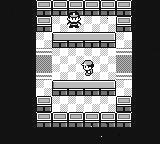main: (81, 61, 94, 75)
no-caminable: (1, 0, 160, 143), (39, 0, 132, 32), (36, 96, 131, 127), (53, 33, 115, 47), (53, 81, 114, 95), (37, 1, 52, 32)
npc: (66, 13, 82, 28)
puerta: (35, 47, 53, 82), (115, 46, 132, 83)
